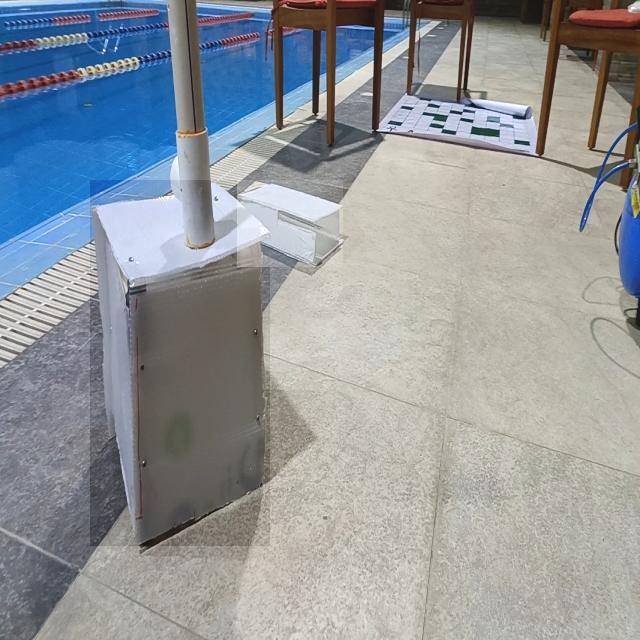Cube: (90, 180, 270, 546)
Cuboid: (237, 180, 343, 267)
